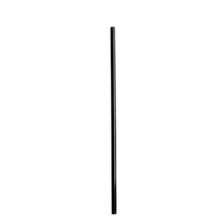drinking_straw: (105, 20, 122, 219)
